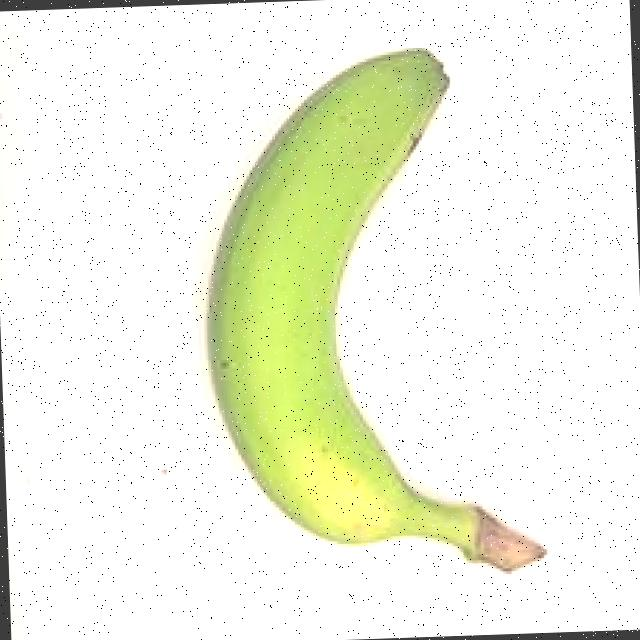Unripe: (139, 21, 580, 612)
